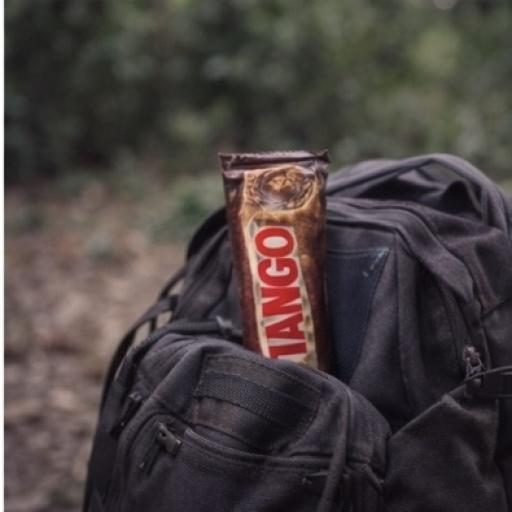tango: (169, 124, 429, 471)
